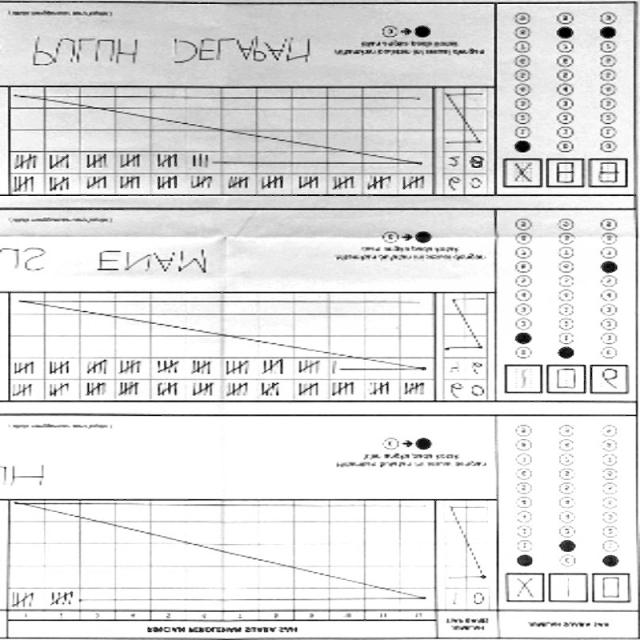Suara: (498, 360, 630, 402), (500, 156, 628, 191), (500, 573, 631, 607)
